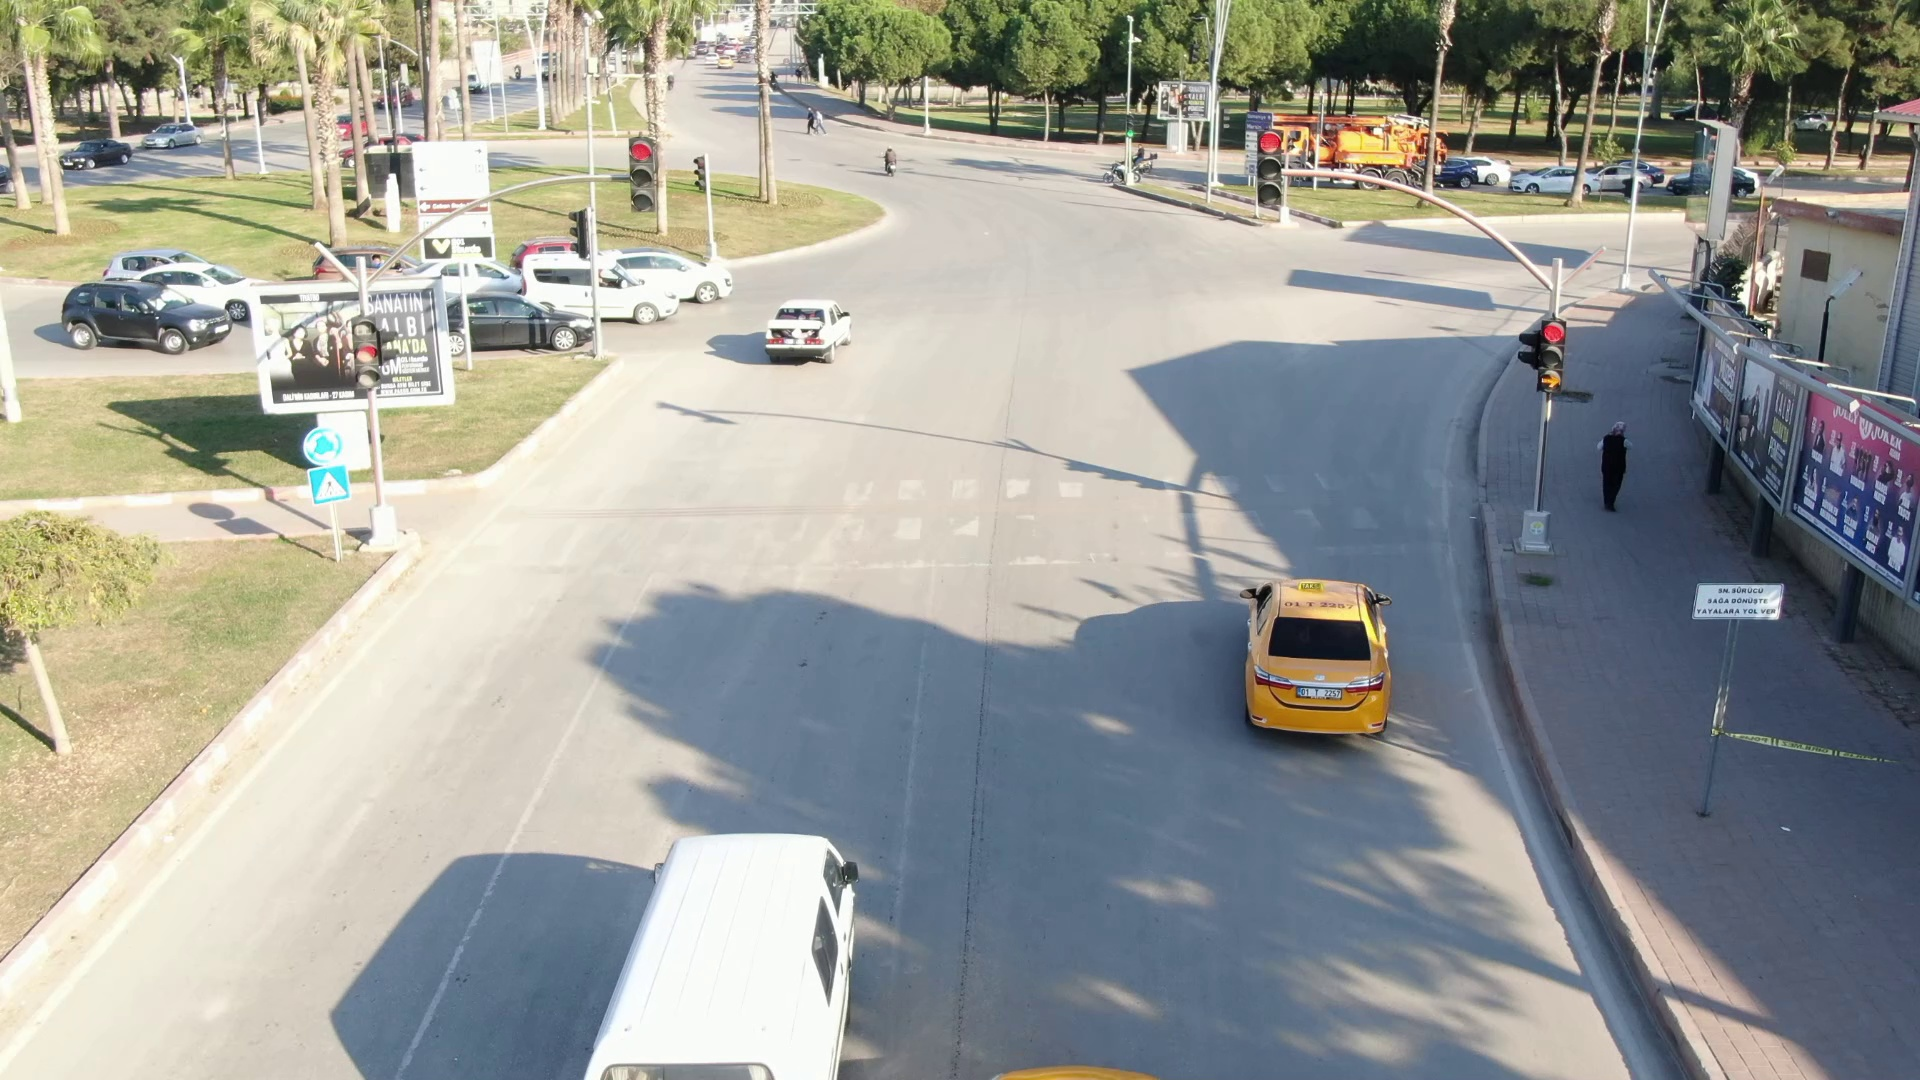car: (570, 835, 878, 1080), (1227, 576, 1400, 749), (510, 247, 680, 327), (57, 276, 235, 351), (437, 282, 594, 355), (753, 296, 861, 365)
person: (1595, 414, 1632, 514), (874, 141, 900, 180)
